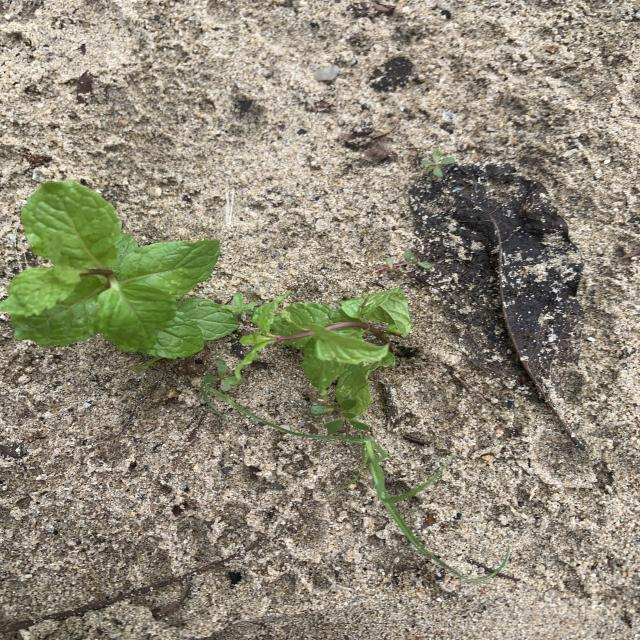crop: (0, 181, 241, 372), (241, 288, 411, 420)
weed: (201, 382, 509, 583), (310, 399, 370, 434), (203, 360, 243, 391), (382, 250, 433, 272), (421, 150, 455, 178)
